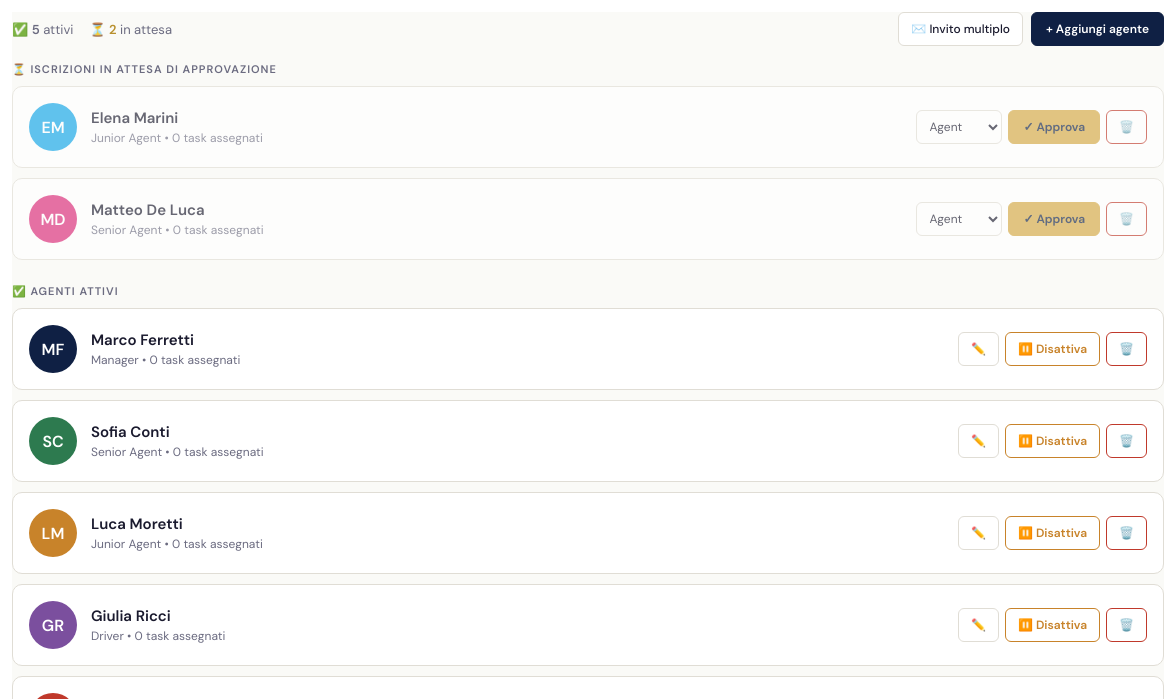
Test: A-4 · AdminTeamTab — la revoca dei privilegi non si chiude alla cieca › cambio di ruolo riuscito: l'editor si chiude (controllo positivo)
Click the button titled "Modifica" in the row of "Marco Ferretti": (979, 349) [958,332,999,366]
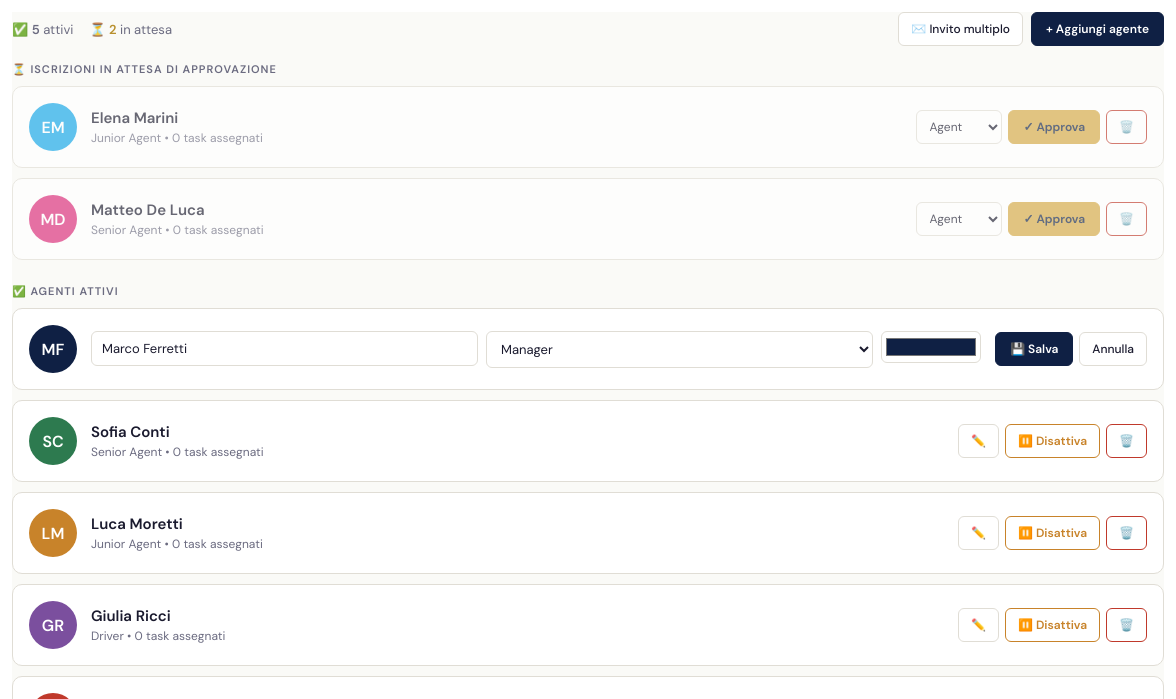
Select "Agent" in the dropdown named "Ruolo": (680, 349) [486,330,873,368]
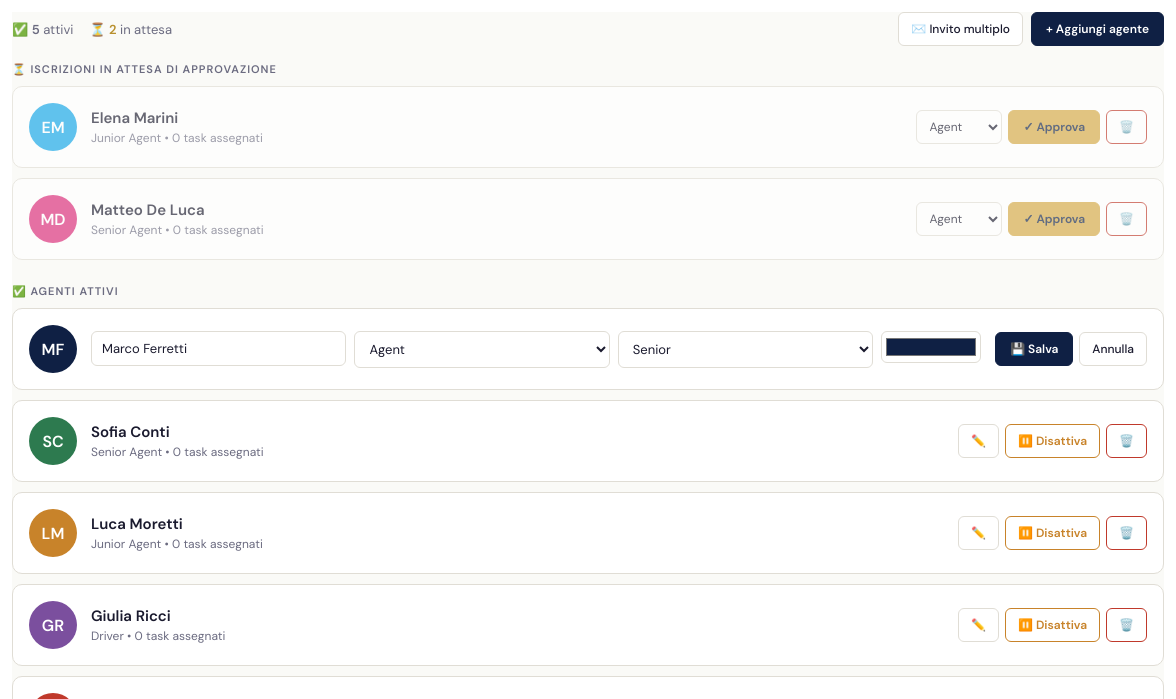
Click the button "💾 Salva": (1034, 349) [995,332,1073,366]
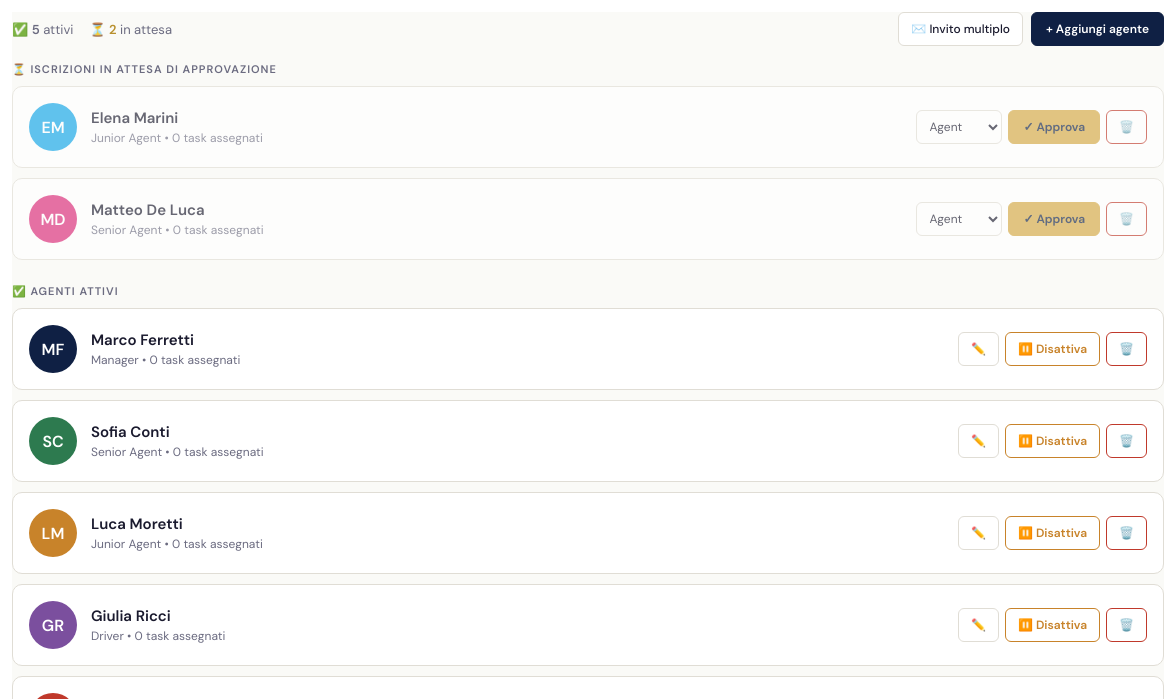
Now the dropdown labelled "Ruolo" is gone
